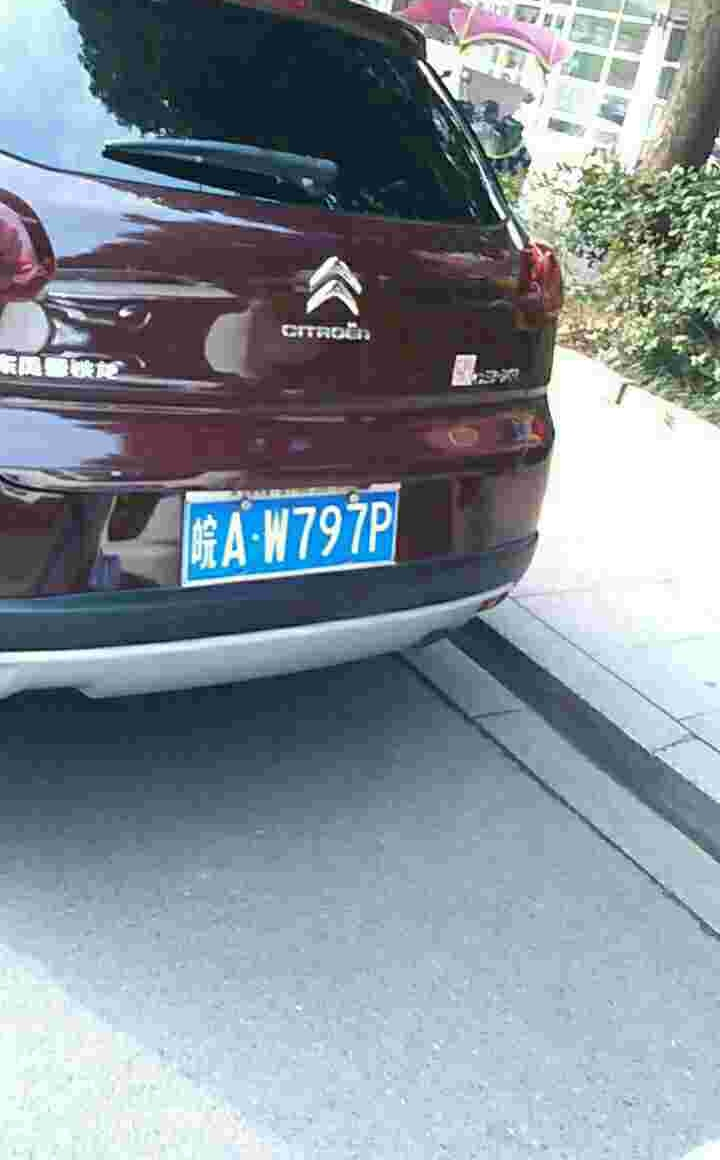license_plate: (190, 490, 397, 592)
